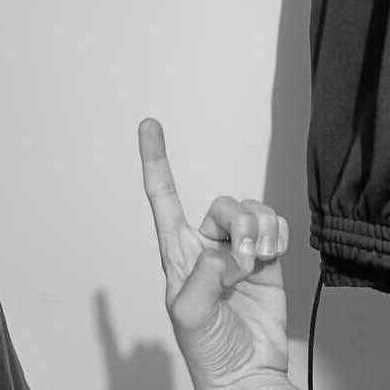D: (137, 117, 290, 380)
